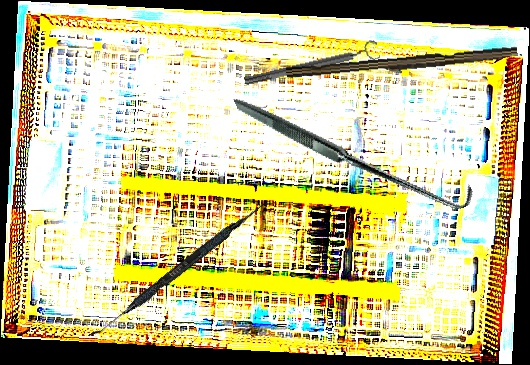Fixation Ring: (242, 38, 381, 92)
Hook Surgical: (232, 23, 478, 277)
Scalpel Handle: (285, 42, 519, 86)
Spatula Surgical: (88, 195, 269, 345)
